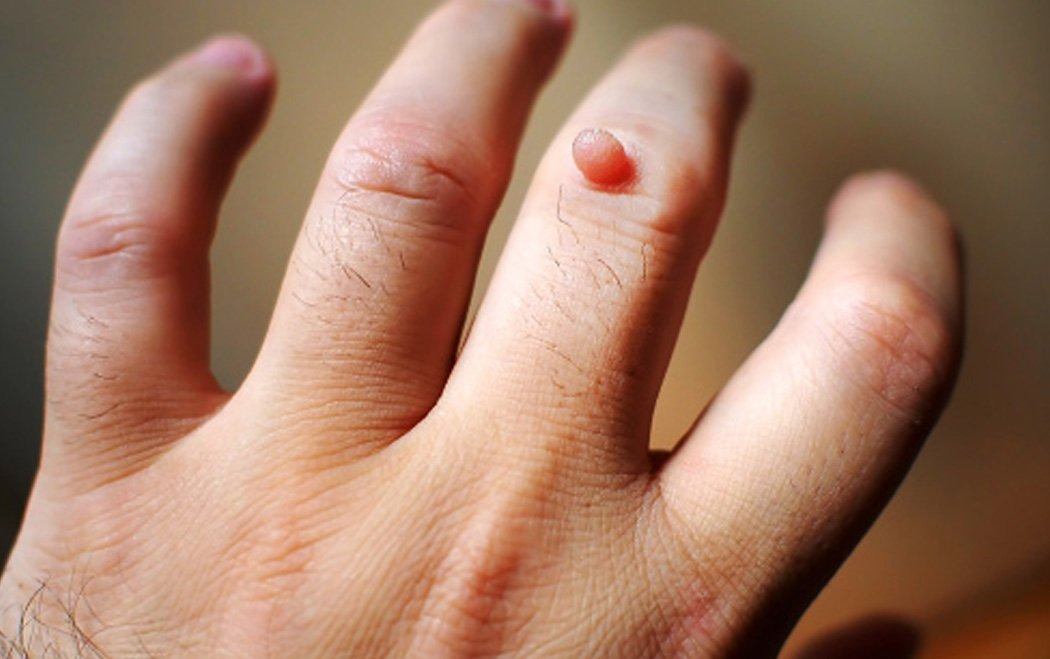Warts: (564, 125, 645, 203)
